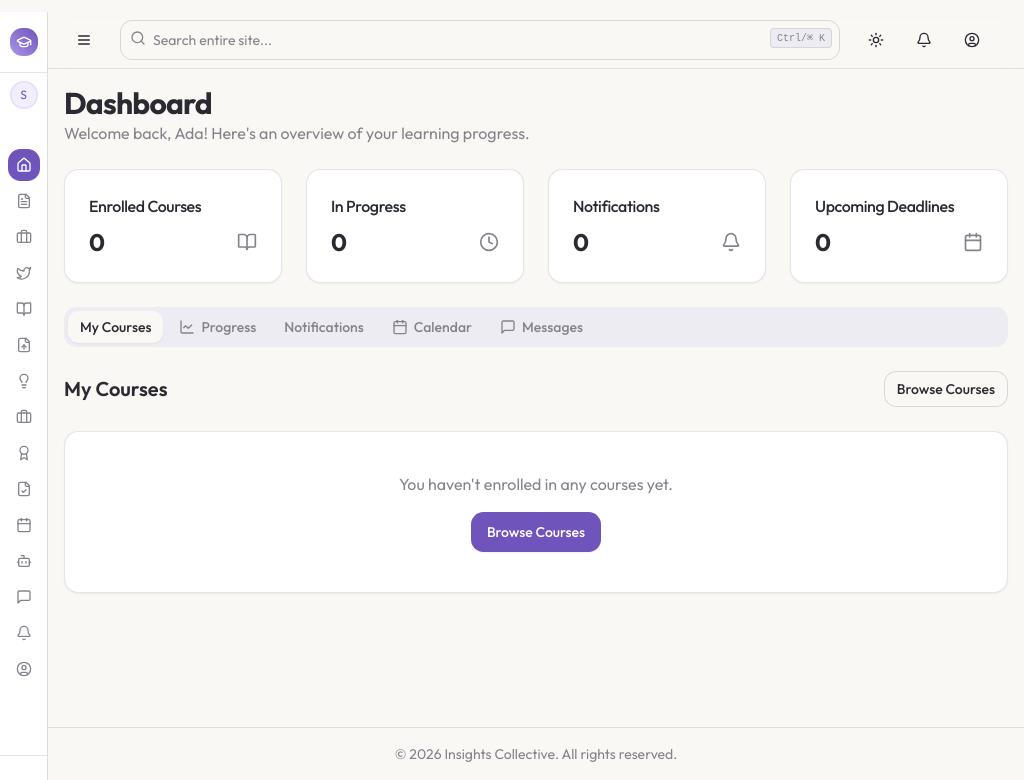
Test: Dashboard › maps notification rows to camelCase so dates render (no "Invalid Date")
The width and height of the screenshot is (1024, 780).
What coordinates should you click on to do the following:
click the tab "Notifications"
I would click on:
 (324, 327)
Its box is [272,311,376,343].
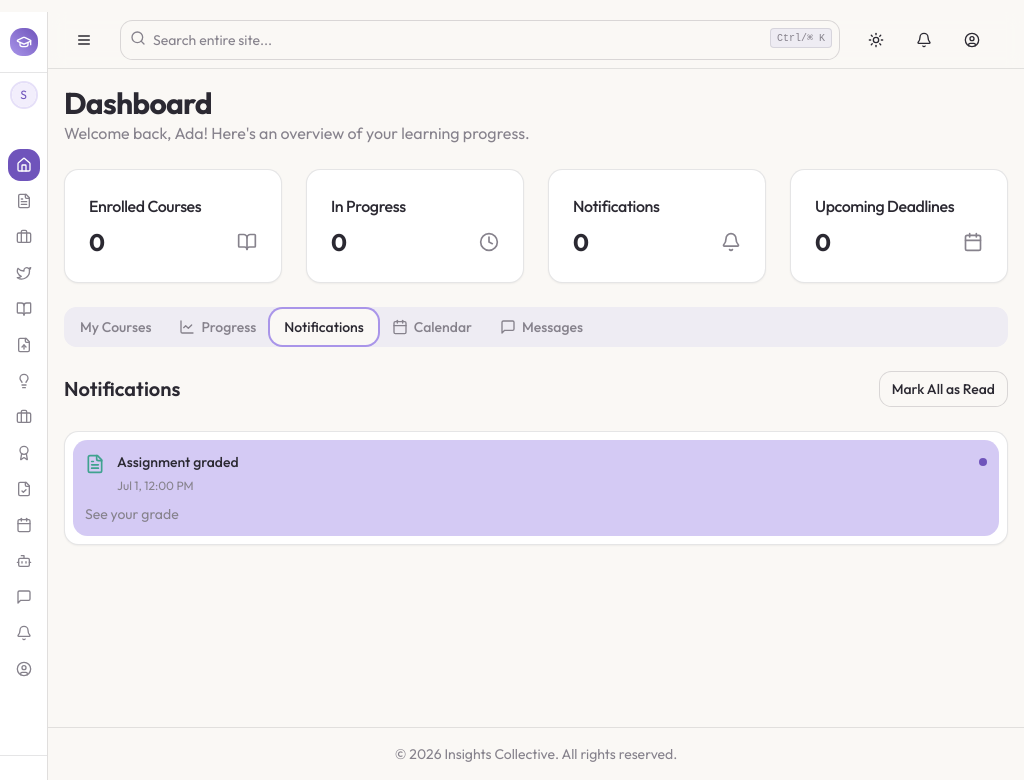
Now the heading "Assignment graded" is shown, box [117,453,239,471]
